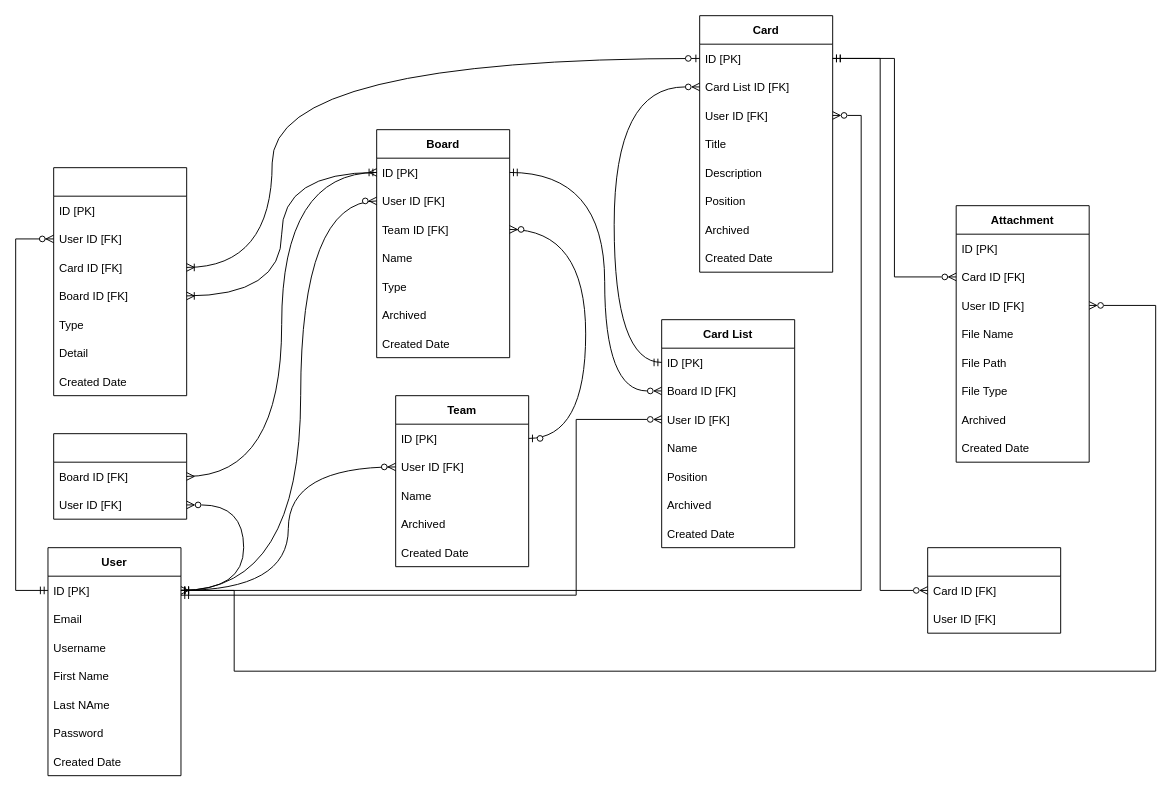
Image size: 1171x791. Some labels were removed from this diagram. Here are the shapes that lost their labels. From the top down, the box of each, then its label:
(53, 167, 187, 396): Activity
(53, 433, 187, 519): Board Member
(927, 547, 1061, 633): Card Assigment
